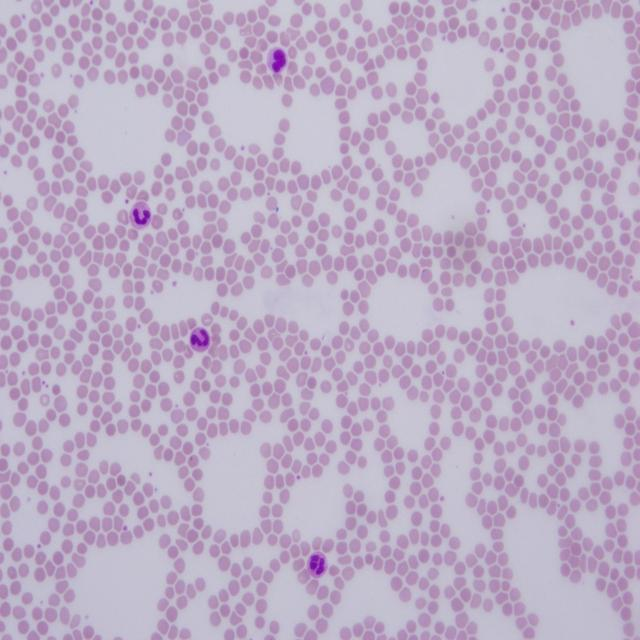cell: (129, 201, 151, 230), (306, 551, 328, 579), (190, 327, 210, 352)
